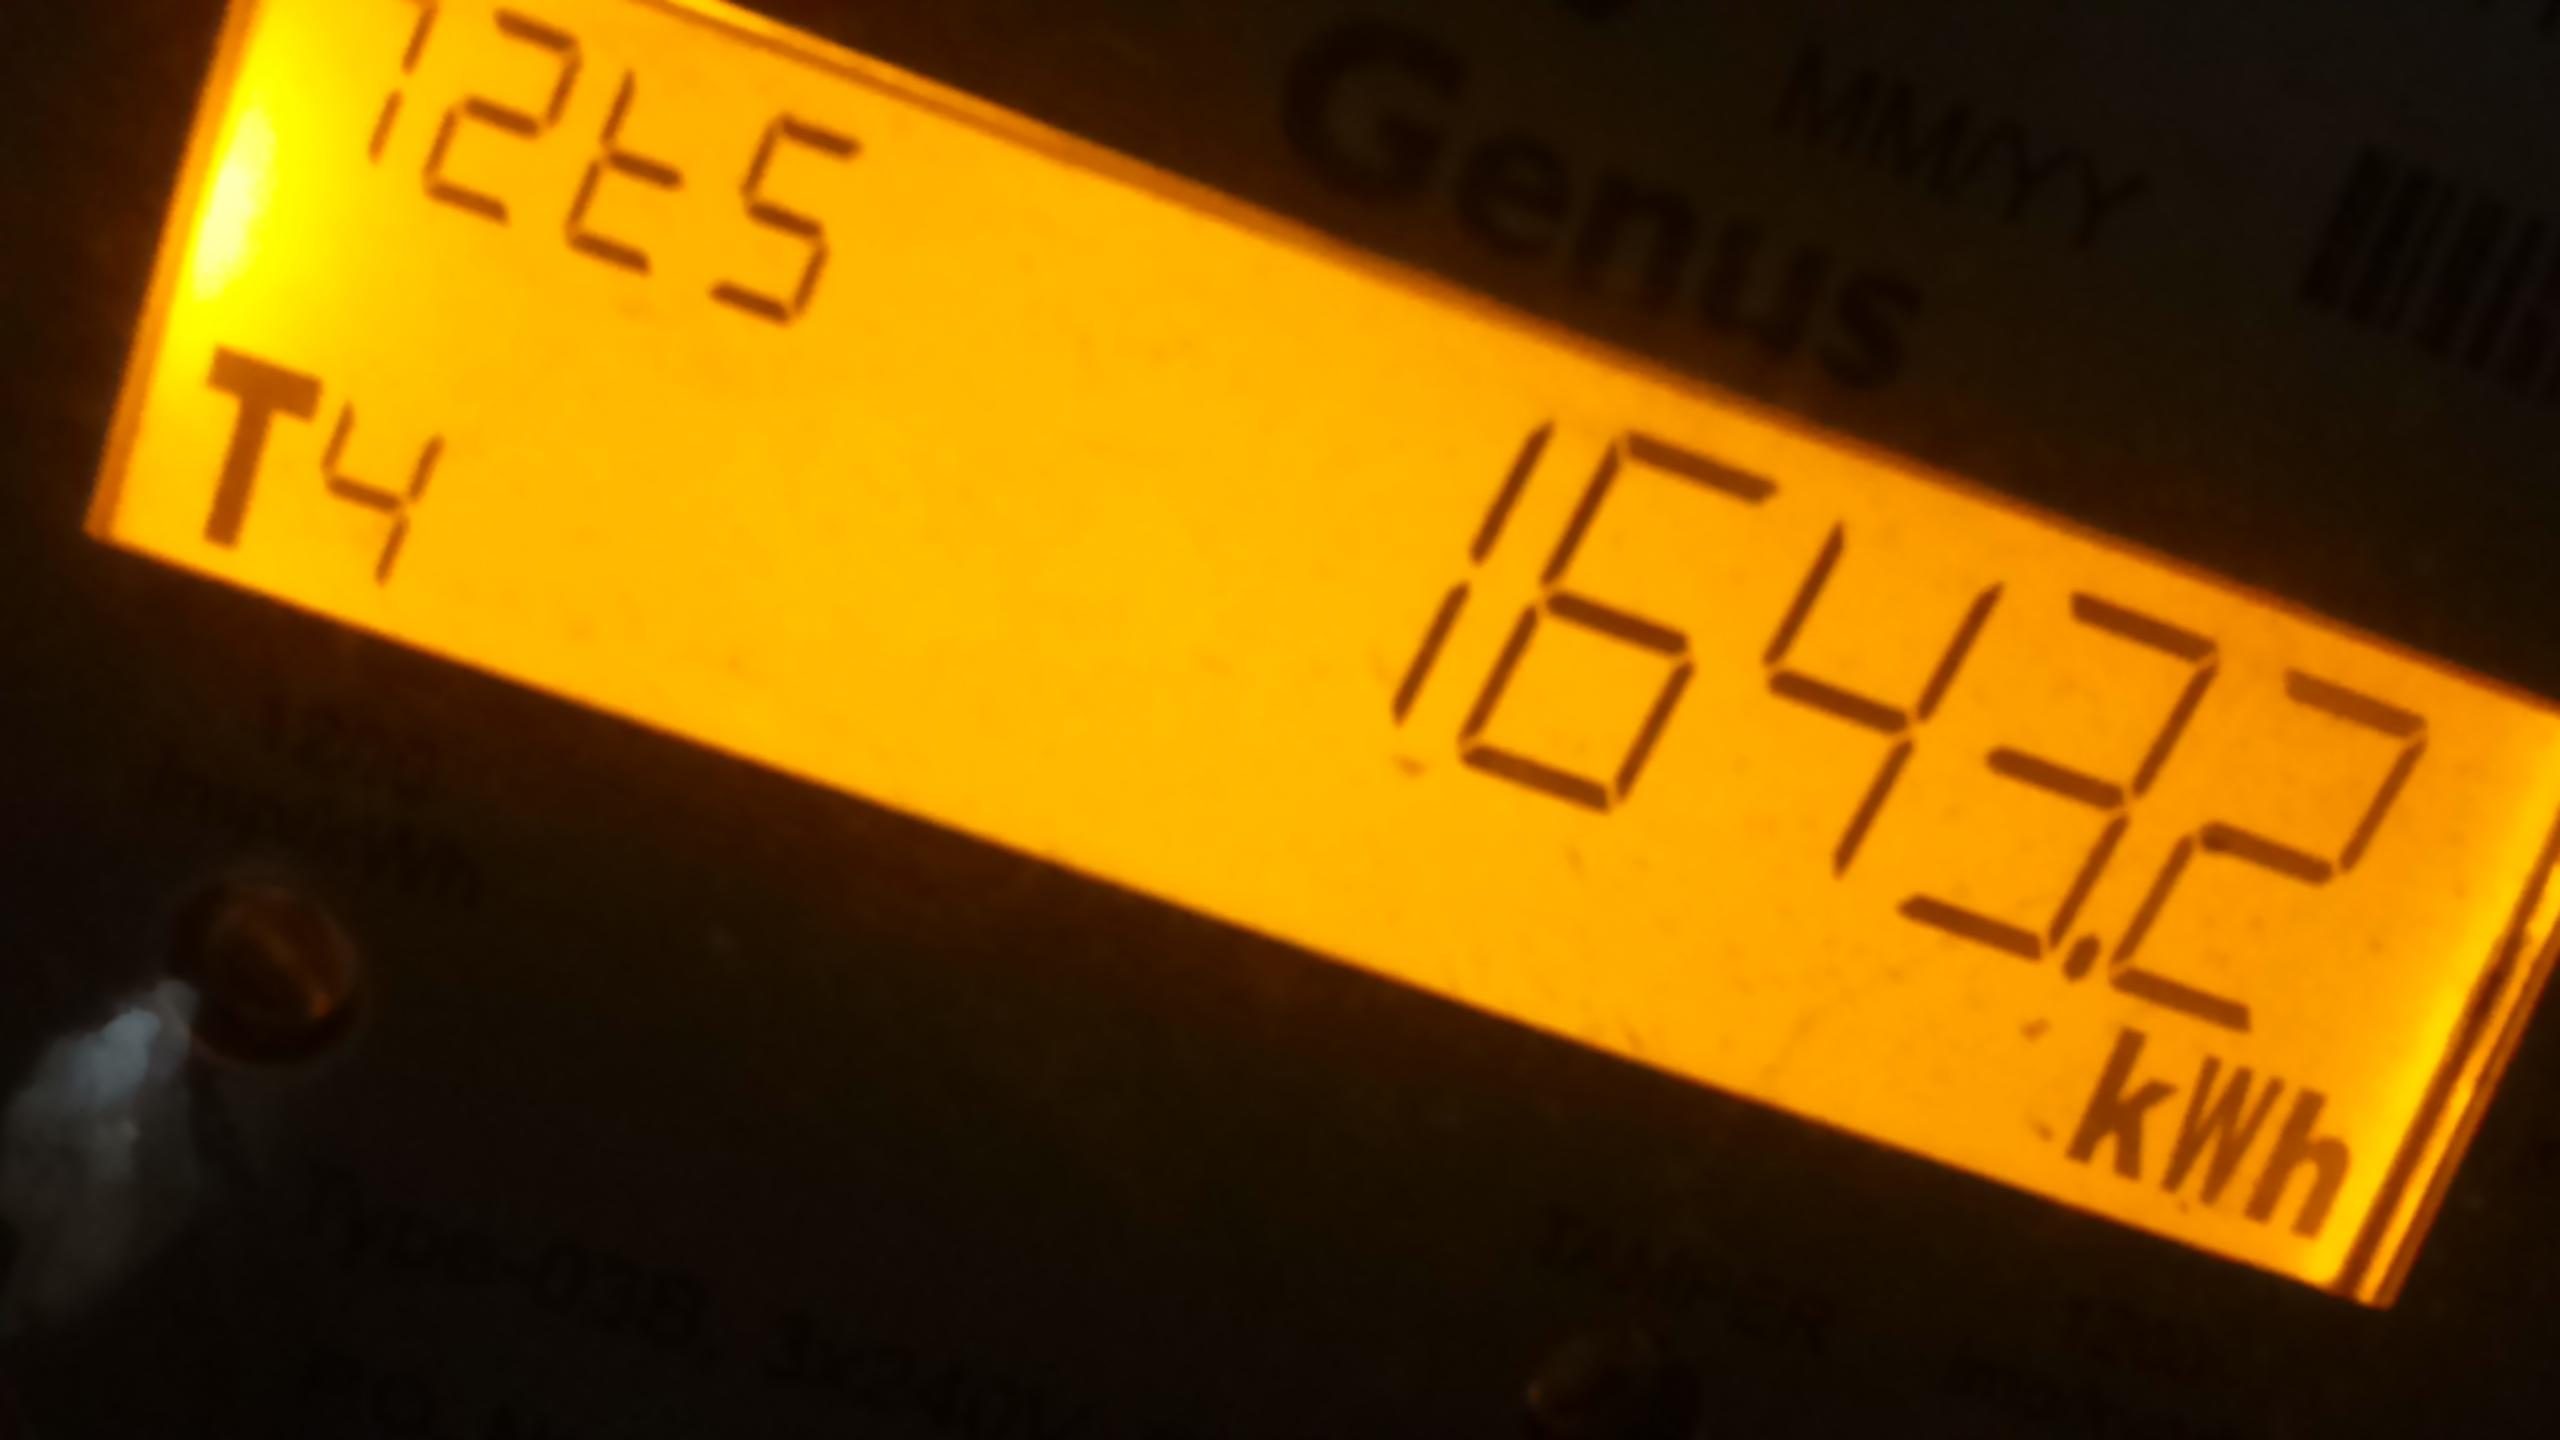.: (2063, 1018, 2361, 1251)
0: (2037, 888, 2147, 1016)
2: (1344, 378, 1592, 762)
3: (2114, 668, 2462, 1052)
4: (1914, 568, 2237, 982)
5: (1701, 473, 1987, 956)
7: (1421, 403, 1777, 892)
